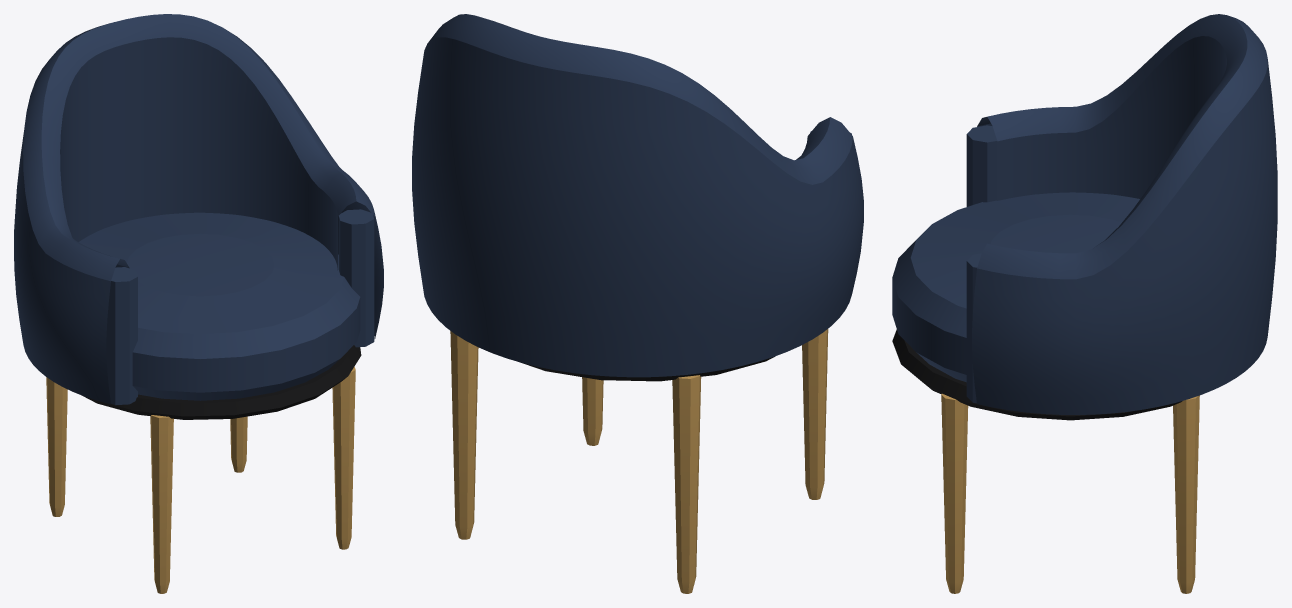
The model's file is tub_navy.glb.
The picture shows the model from 3 angles, left to right: view 1: azimuth 30°, elevation 25°; view 2: azimuth 150°, elevation 25°; view 3: azimuth 270°, elevation 25°; orthographic projection. The views are drawn at different scales.
Visible parts, largest first — view 1: tub_navy; view 2: tub_navy; view 3: tub_navy.
Part boxes in pixels (<box>): tub_navy: <box>14,14,383,593</box>; tub_navy: <box>412,14,863,593</box>; tub_navy: <box>892,14,1277,593</box>.
Bounding box in the file's own units: 0.5992 × 0.808 × 0.5663.
